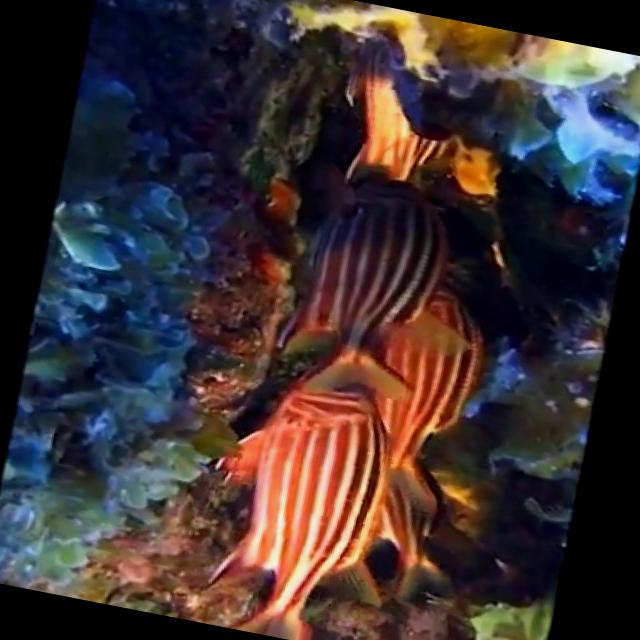Asker Baligi: (219, 238, 453, 640)
